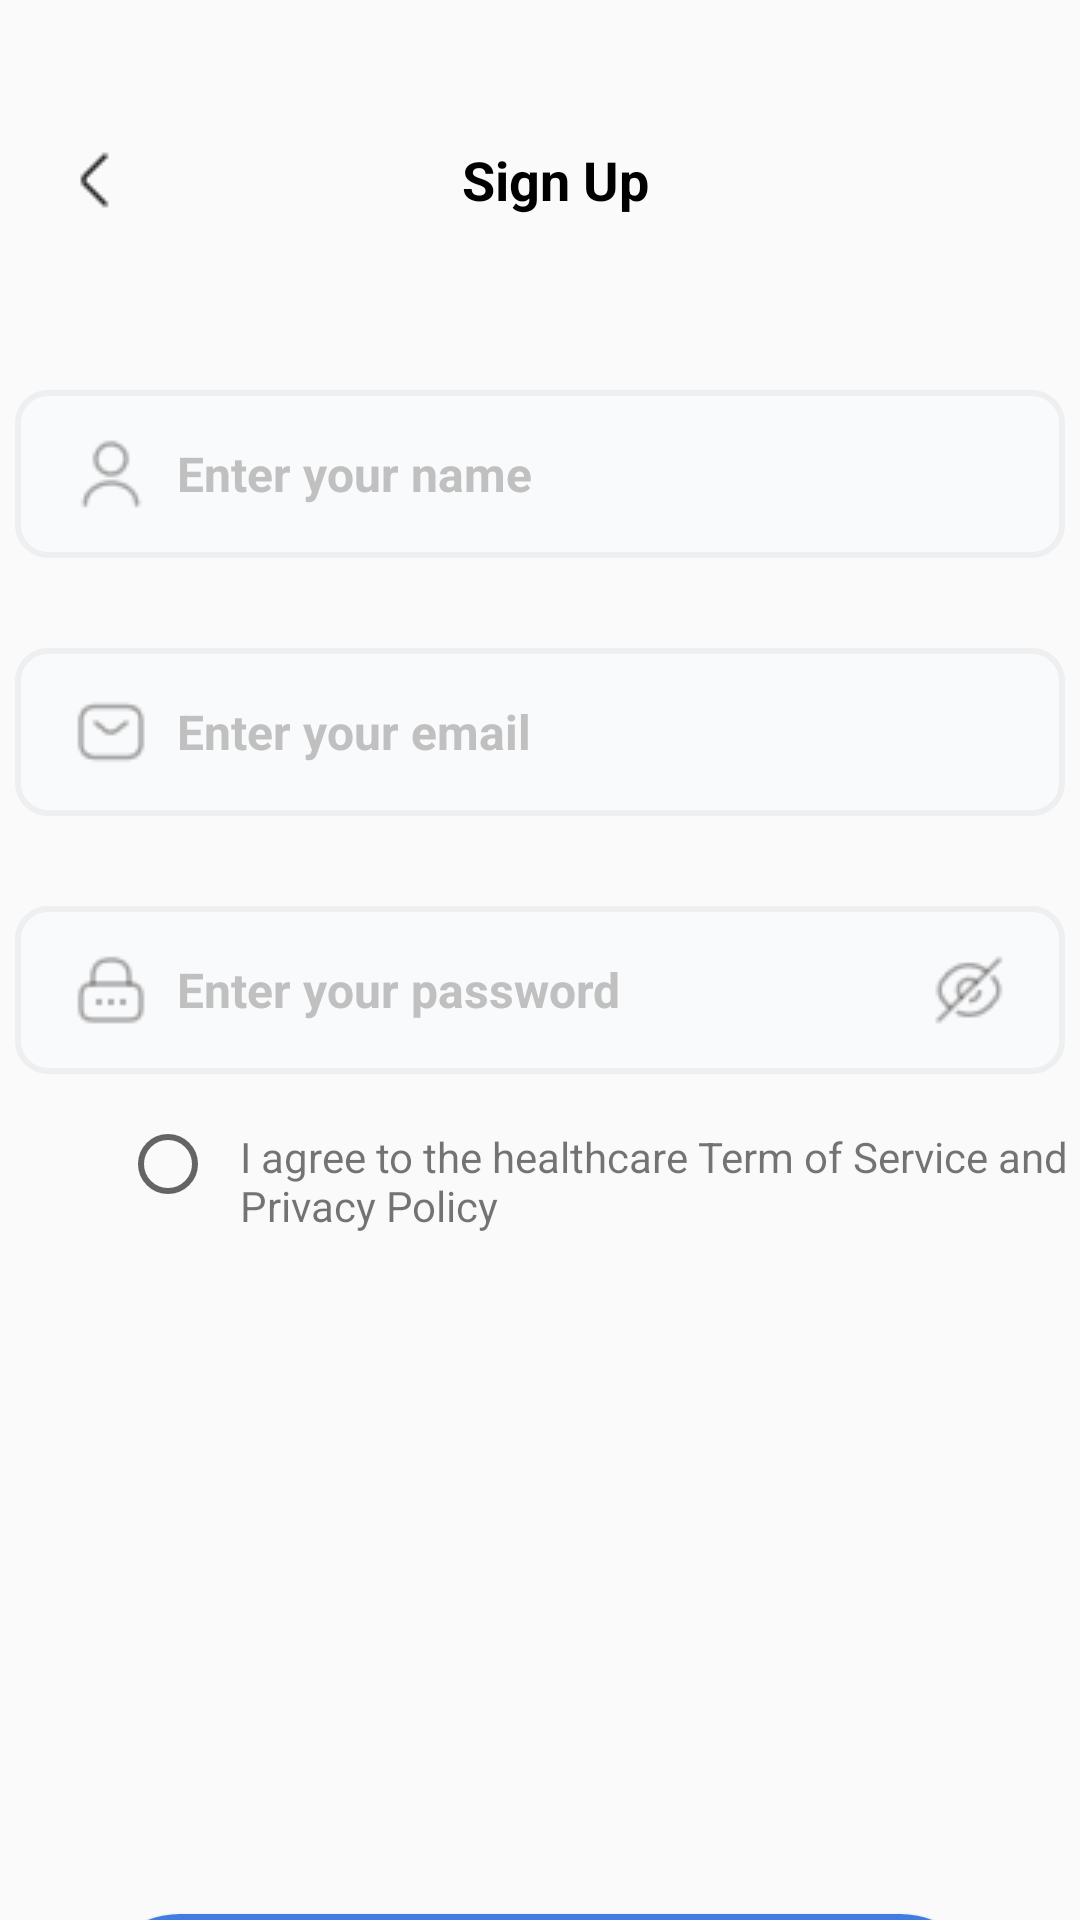

Where to tap for icons on this 1080x1920 app screen, as (x=x, y=y):
chevronleft: (x=94, y=180)
